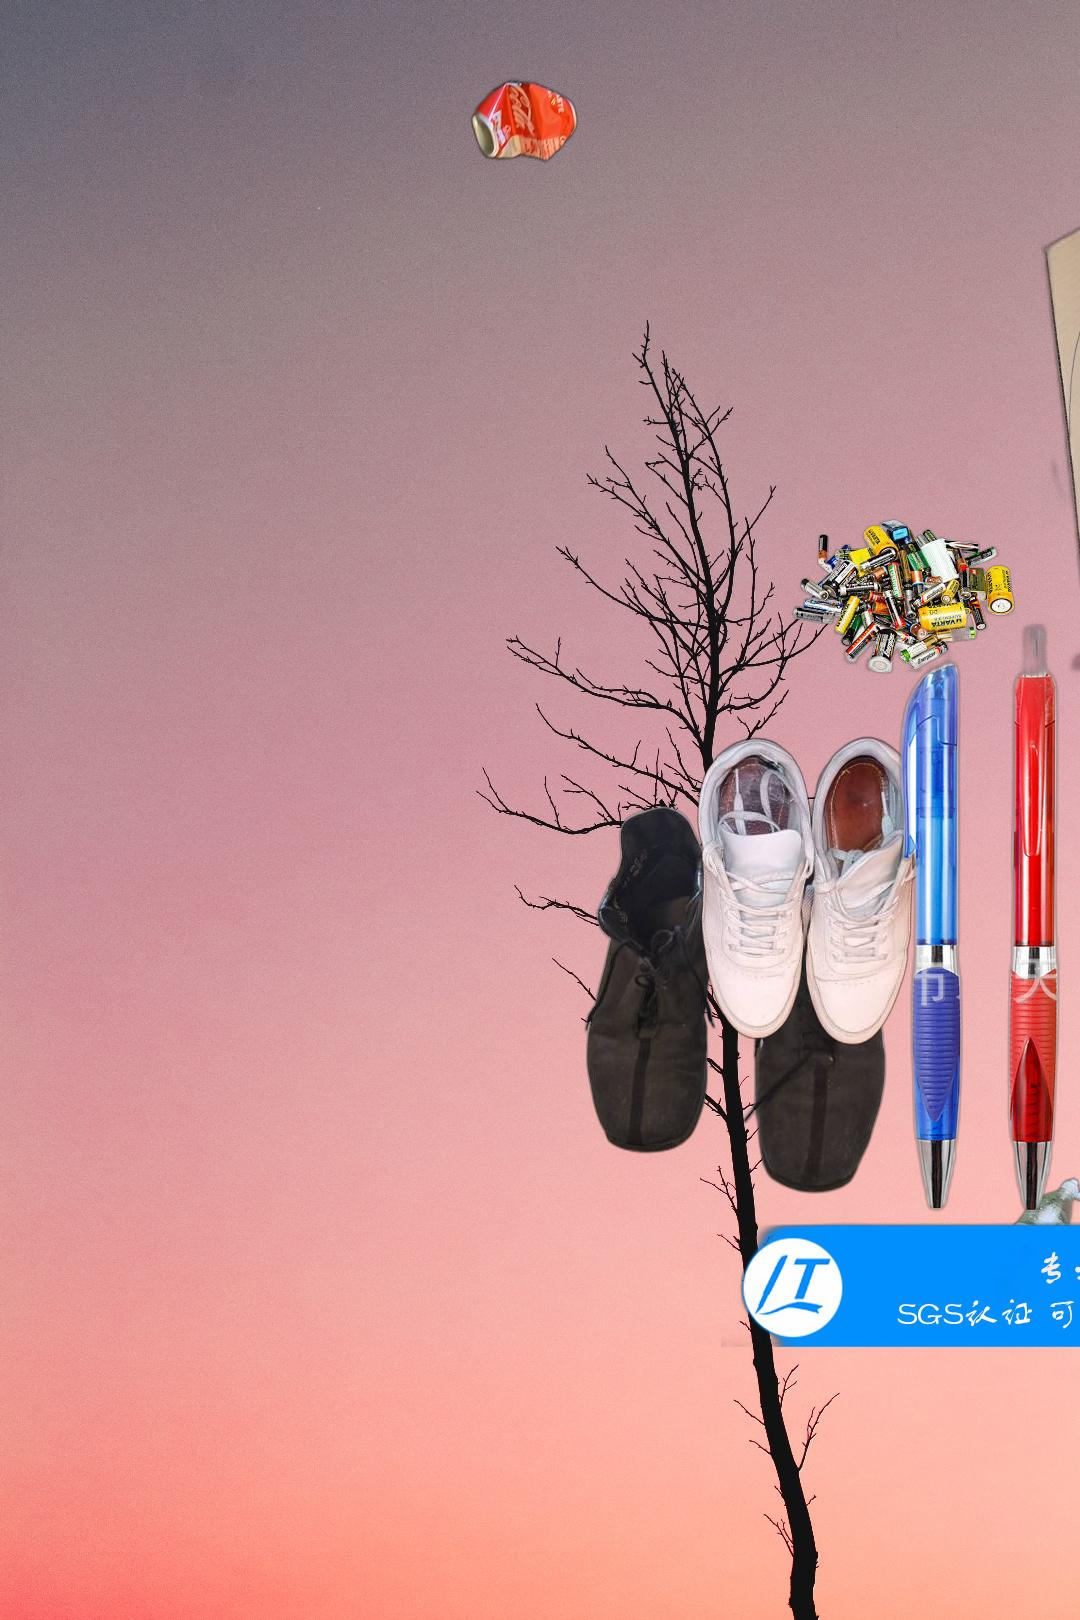battery: (789, 517, 1018, 676)
metal-cans: (468, 74, 582, 167)
penholder: (721, 618, 1080, 1347)
plastic-bottles: (977, 1173, 1080, 1302)
shoes: (581, 801, 889, 1197), (694, 733, 932, 1049)
trashbox-cardboard: (1041, 5, 1080, 751)
